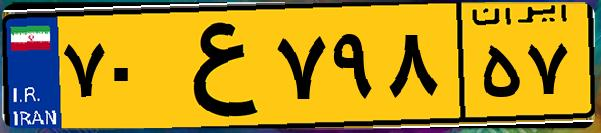0: (110, 28, 158, 98)
5: (475, 38, 525, 113)
7: (270, 28, 330, 110), (57, 26, 110, 100), (525, 38, 570, 115)
8: (385, 28, 445, 110)
9: (330, 28, 385, 110)
ع: (158, 12, 270, 120)
